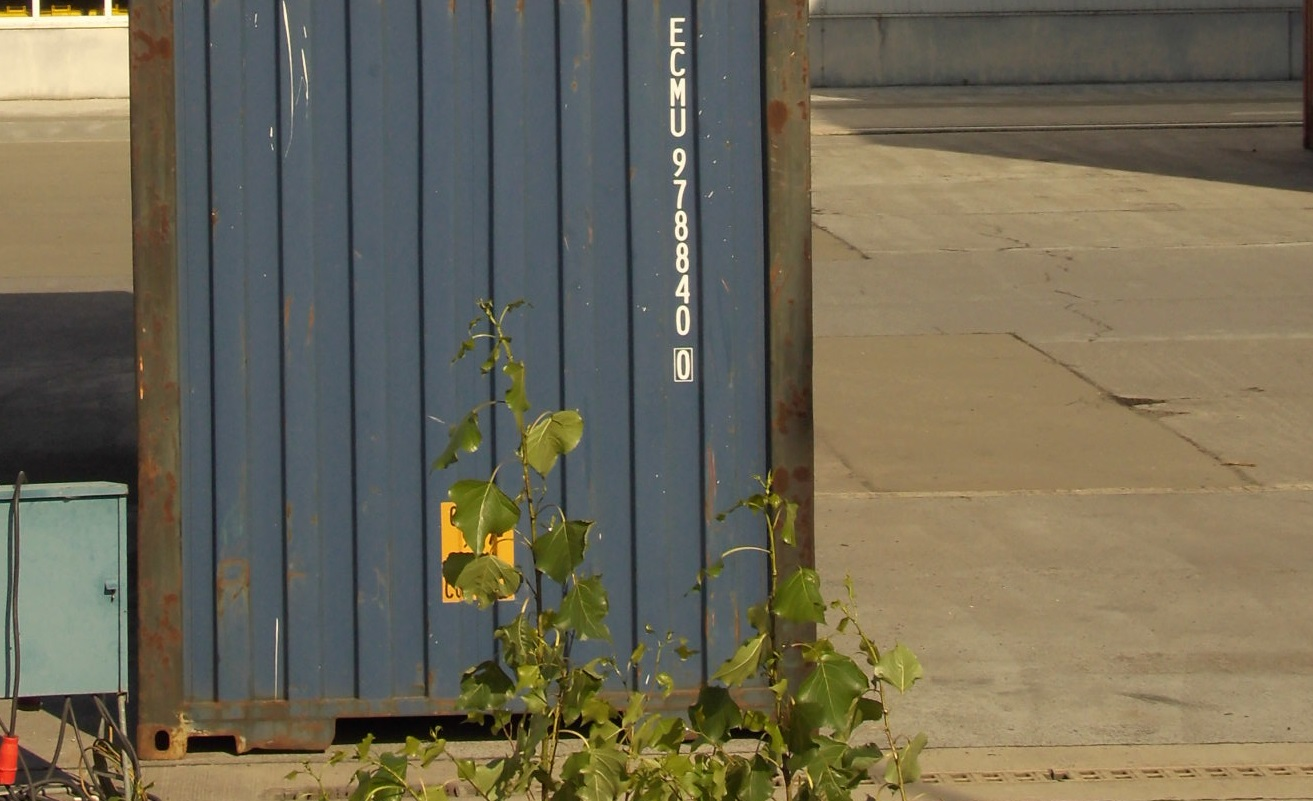container_no_door: (137, 2, 812, 759)
